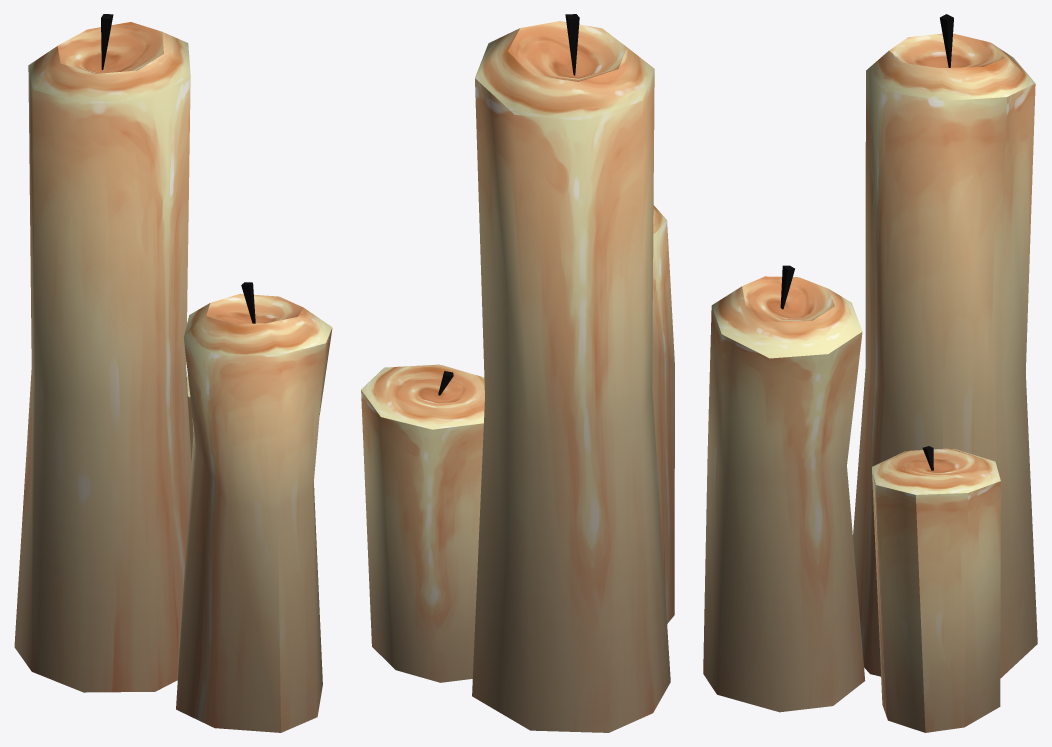
The model's file is SM_PROP_candle_dungeon_08.fbx.
3 renders of one model, left to right at view 1: azimuth 30°, elevation 25°; view 2: azimuth 150°, elevation 25°; view 3: azimuth 270°, elevation 25°, orthographic. The views are drawn at different scales.
Parts seen in each view (by area): view 1: SM_PROP_candle_dungeon_08; view 2: SM_PROP_candle_dungeon_08; view 3: SM_PROP_candle_dungeon_08.
Boxes of the visible parts, x1=… form: SM_PROP_candle_dungeon_08: x1=14, y1=14, x2=332, y2=732; SM_PROP_candle_dungeon_08: x1=361, y1=14, x2=674, y2=732; SM_PROP_candle_dungeon_08: x1=703, y1=14, x2=1037, y2=732.
Size of the model in its own units: 13.68 by 31.13 by 14.93.
